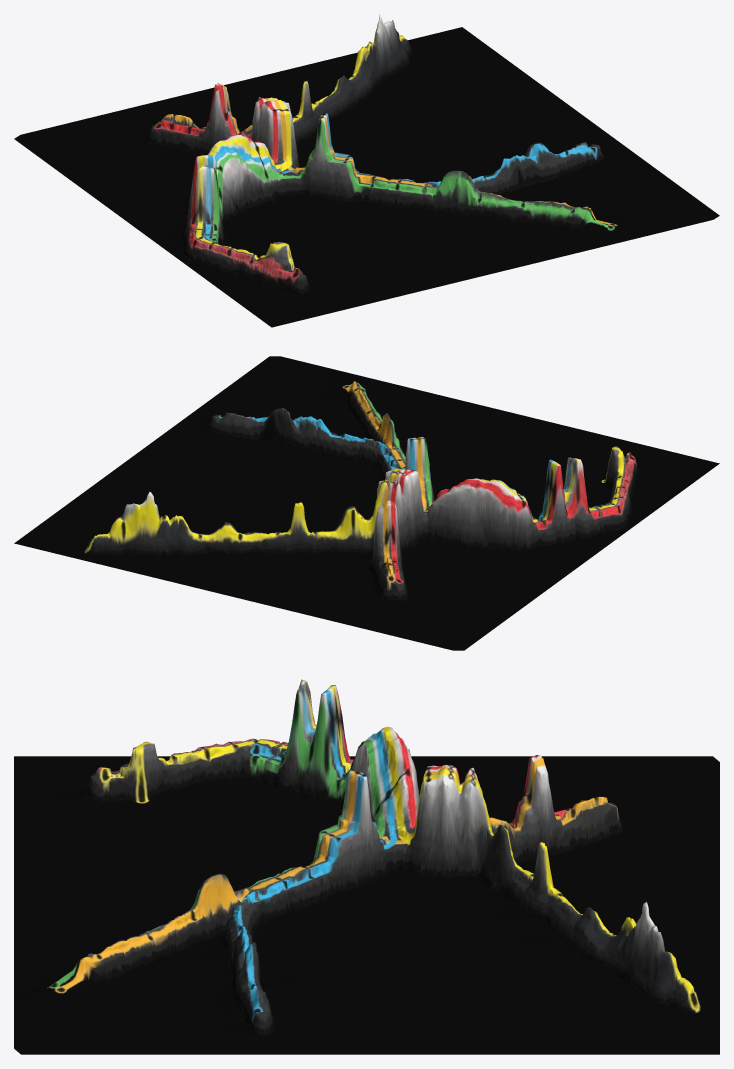
Rendered from bart_sounds.dae.
The picture shows the model from 3 angles, top to bottom: view 1: azimuth 30°, elevation 25°; view 2: azimuth 150°, elevation 25°; view 3: azimuth 270°, elevation 25°; orthographic projection. The views are drawn at different scales.
Visible parts, largest first — view 1: pPlane1_displacement1; view 2: pPlane1_displacement1; view 3: pPlane1_displacement1.
Boxes of the visible parts, x1,y1,x2,y2 form: pPlane1_displacement1: (14, 14, 719, 327); pPlane1_displacement1: (14, 356, 719, 650); pPlane1_displacement1: (14, 679, 719, 1054).
Size of the model in its own units: 812 by 128 by 812.
Materials: 1 (1 with a texture image).
